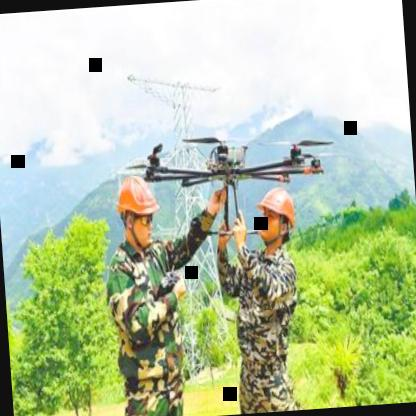helmet: (110, 169, 166, 253), (252, 181, 300, 250)
